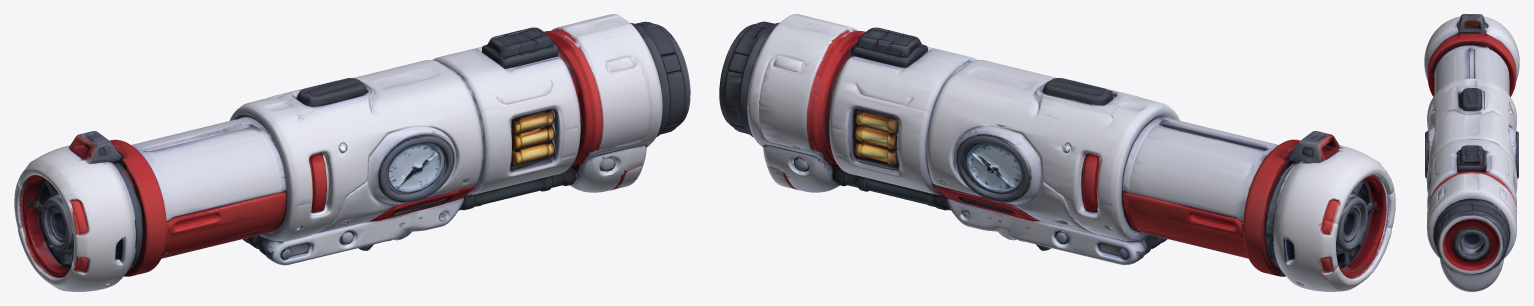
File: 火箭筒.glb
3 renders of one model, left to right at view 1: azimuth 30°, elevation 25°; view 2: azimuth 150°, elevation 25°; view 3: azimuth 270°, elevation 25°, orthographic. The views are drawn at different scales.
Visible parts, largest first — view 1: node_0; view 2: node_0; view 3: node_0.
Boxes of the visible parts, bbox=[...] form: node_0: bbox=[14, 14, 690, 291]; node_0: bbox=[719, 14, 1395, 291]; node_0: bbox=[1424, 14, 1519, 291].
Bounding box in the file's own units: 1.18 × 0.319 × 0.2454.
Materials: 1 (1 with a texture image).
